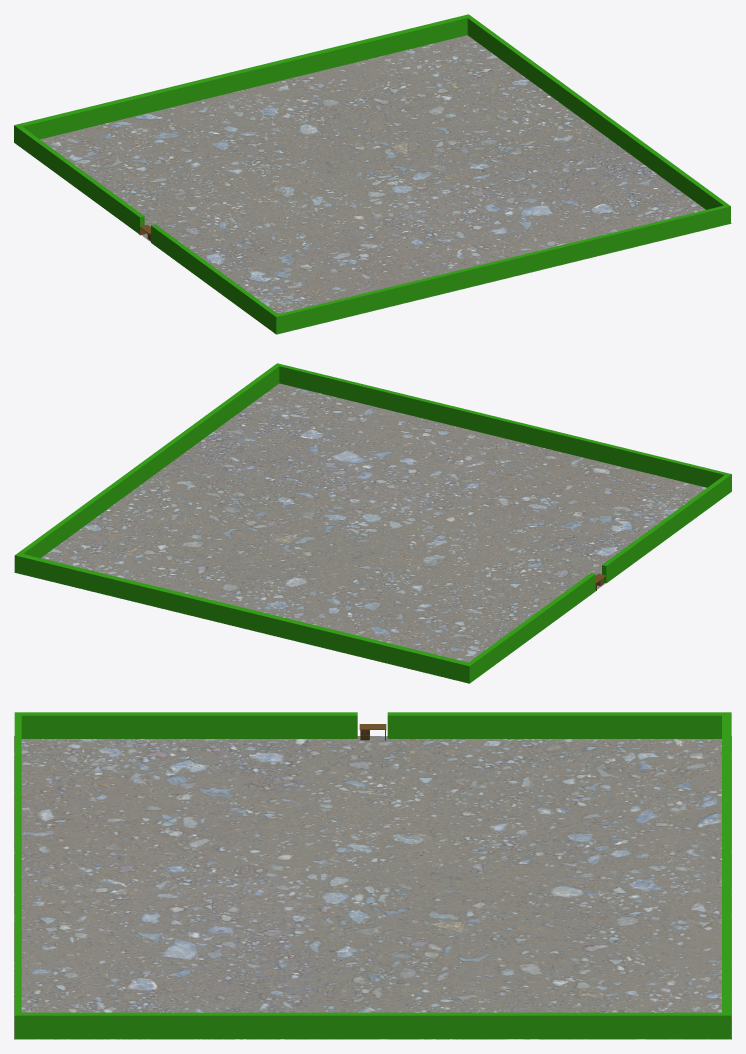
File: desk.glb
3 renders of one model, top to bottom at view 1: azimuth 30°, elevation 25°; view 2: azimuth 150°, elevation 25°; view 3: azimuth 270°, elevation 25°, orthographic. The views are drawn at different scales.
Parts seen in each view (by area): view 1: ground, Cube; view 2: ground, Cube; view 3: ground, Cube.
Part boxes in pixels (x1,y1,x2,y2): ground: (40, 35, 731, 334); Cube: (14, 14, 730, 334); ground: (14, 383, 706, 677); Cube: (14, 363, 731, 683); ground: (14, 736, 731, 1039); Cube: (14, 712, 731, 1038).
Size of the model in its own units: 50.76 by 1.85 by 50.63.
4 materials, 1 textured.
